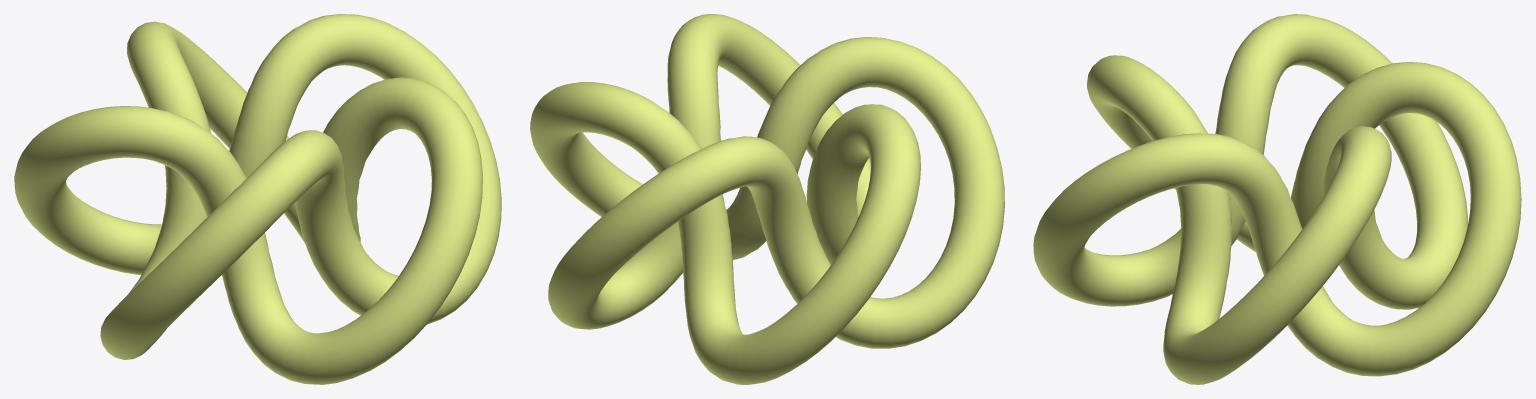
File: avery-sculpture.glb
The picture shows the model from 3 angles, left to right: view 1: azimuth 30°, elevation 25°; view 2: azimuth 150°, elevation 25°; view 3: azimuth 270°, elevation 25°; orthographic projection. The views are drawn at different scales.
Parts seen in each view (by area): view 1: AverySculpture; view 2: AverySculpture; view 3: AverySculpture.
Boxes of the visible parts, x1,y1,x2,y2 form: AverySculpture: (14, 14, 501, 384); AverySculpture: (530, 14, 1004, 384); AverySculpture: (1033, 14, 1521, 384).
Size of the model in its own units: 1.97 by 1.08 by 2.02.
